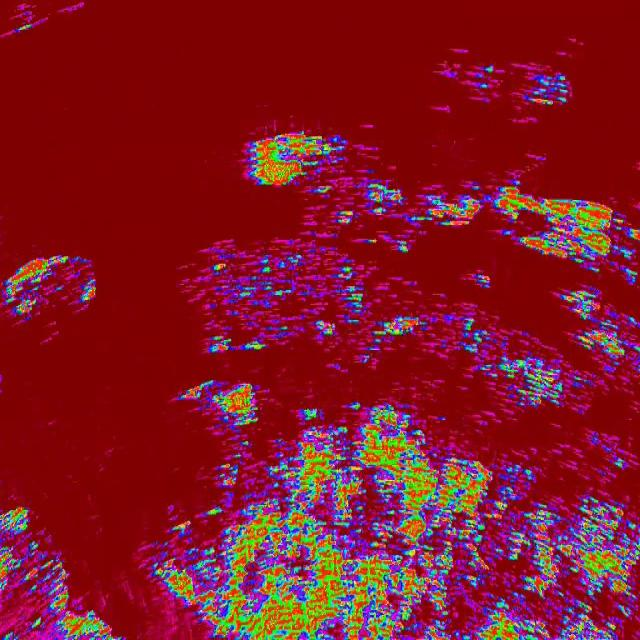fire: (152, 504, 640, 640), (198, 234, 640, 378), (214, 424, 638, 504), (180, 378, 640, 423), (292, 180, 640, 232), (0, 500, 68, 640), (436, 48, 574, 113), (240, 124, 380, 182), (0, 248, 98, 328), (67, 607, 121, 640)
